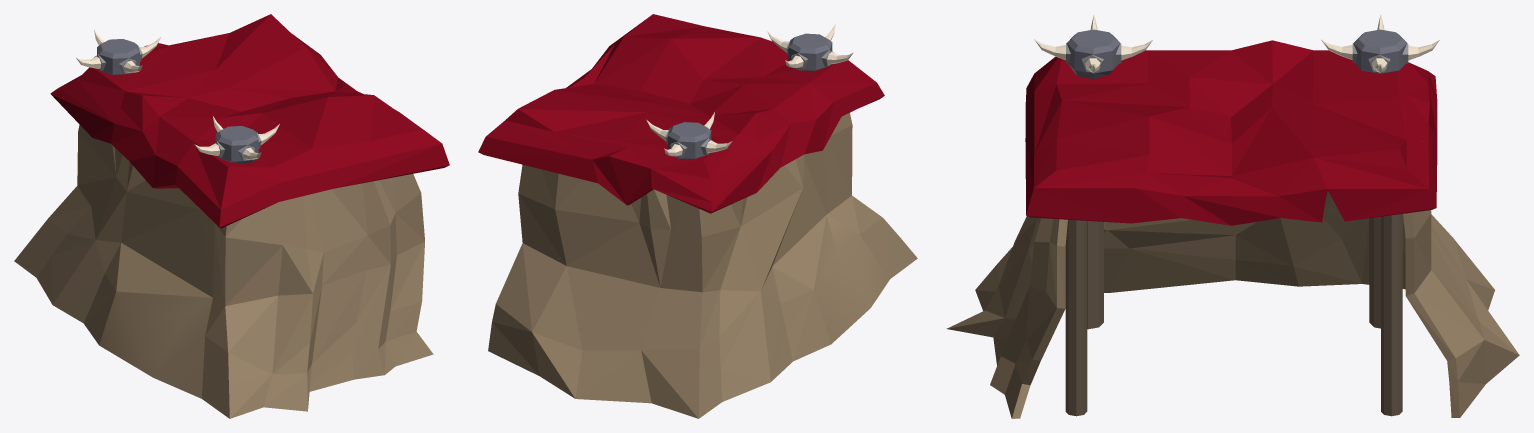
The model's file is orc_hut_1.glb.
3 views of the same model, side by side, from view 1: azimuth 30°, elevation 25°; view 2: azimuth 150°, elevation 25°; view 3: azimuth 270°, elevation 25° (orthographic). The views are drawn at different scales.
Parts seen in each view (by area): view 1: tent_2; view 2: tent_2; view 3: tent_2.
Part boxes in pixels (x1=…): tent_2: x1=14, y1=14, x2=449, y2=418; tent_2: x1=478, y1=14, x2=917, y2=418; tent_2: x1=946, y1=14, x2=1519, y2=418.
Bounding box in the file's own units: 6.08 × 5.18 × 9.47.
1 material, 1 textured.
